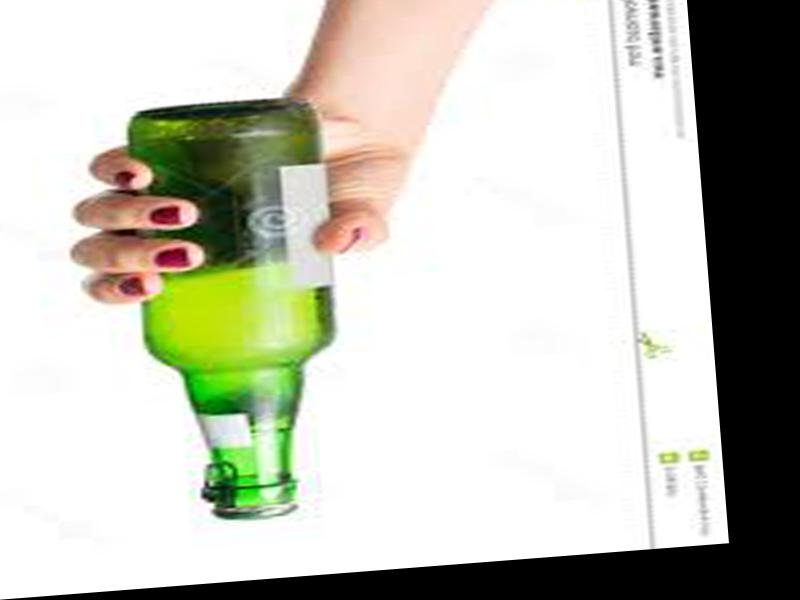Beer: (126, 93, 357, 529)
